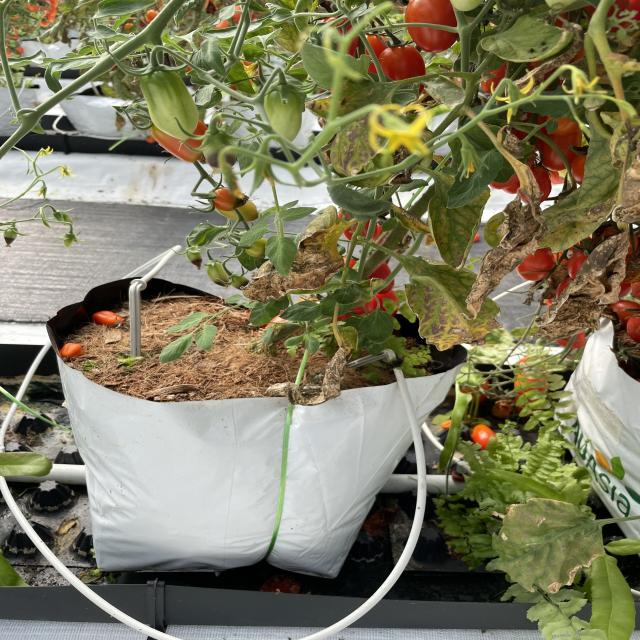Obstacle: (116, 239, 185, 353), (339, 350, 417, 421)
Soilbag: (48, 307, 459, 582)
Tomato: (320, 16, 427, 93), (405, 0, 458, 51)
plant: (77, 8, 616, 344)
